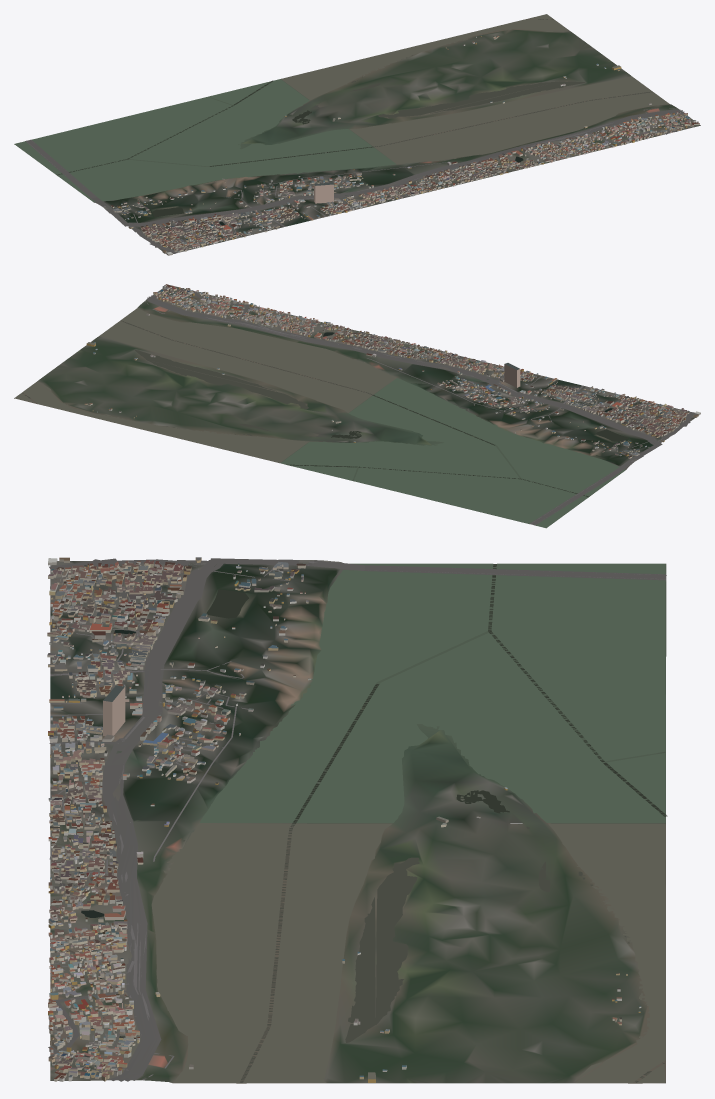
3 renders of one model, top to bottom at view 1: azimuth 30°, elevation 25°; view 2: azimuth 150°, elevation 25°; view 3: azimuth 270°, elevation 25°, orthographic. The views are drawn at different scales.
Visible parts, largest first — view 1: water, ground, buildings, roads; view 2: water, ground, buildings, roads; view 3: water, ground, buildings, roads.
Boxes of the visible parts, x1,y1,x2,y2 form: water: (15, 14, 668, 225); ground: (14, 17, 700, 253); buildings: (111, 35, 699, 255); roads: (25, 108, 685, 253); water: (14, 308, 628, 527); ground: (14, 284, 695, 528); buildings: (84, 284, 700, 458); roads: (145, 290, 694, 525); water: (81, 563, 667, 1082); ground: (50, 560, 666, 1083); buildings: (47, 557, 641, 1082); roads: (48, 558, 666, 1081).
Size of the model in its own units: 2823 by 98.4 by 1413.
